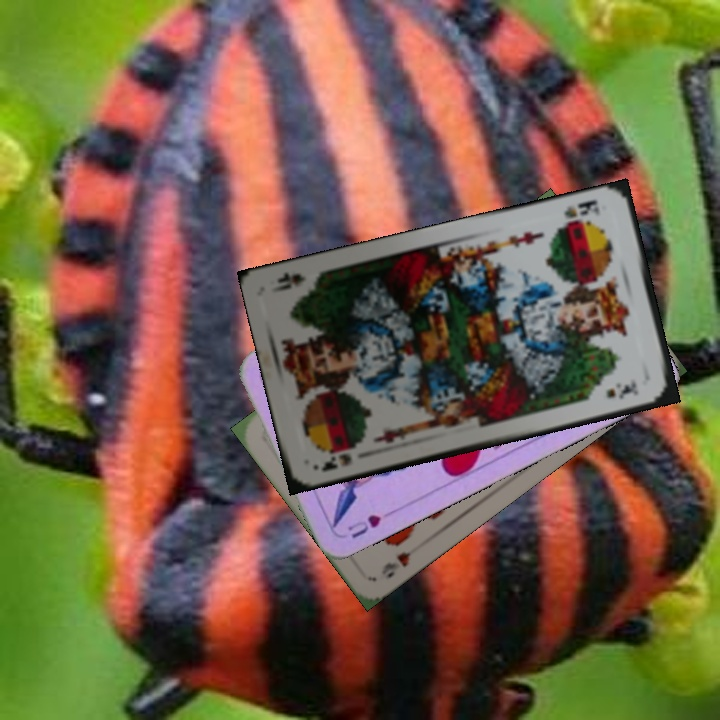H9: (377, 540, 424, 581)
HU: (343, 510, 384, 541)
SK: (560, 196, 602, 221), (317, 449, 354, 475)
